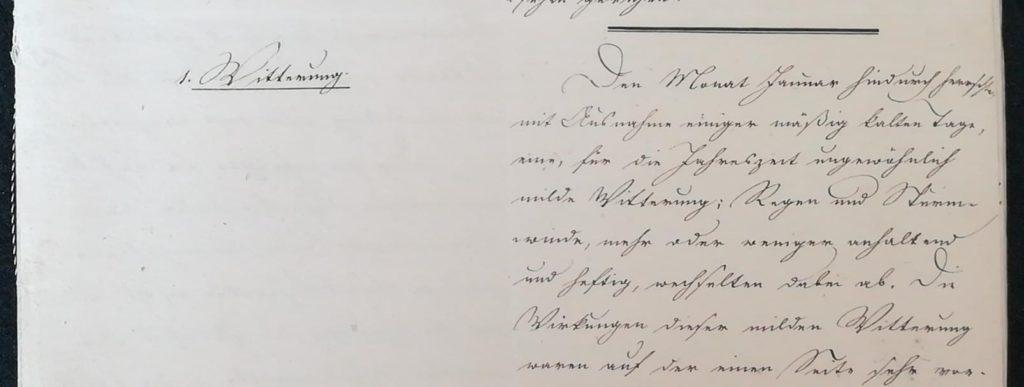text: (558, 39, 998, 103), (511, 246, 965, 303), (504, 170, 982, 224), (508, 215, 1002, 265), (509, 299, 974, 349), (515, 337, 989, 386), (507, 139, 963, 189), (507, 101, 987, 145), (169, 39, 353, 97), (501, 0, 674, 21)
